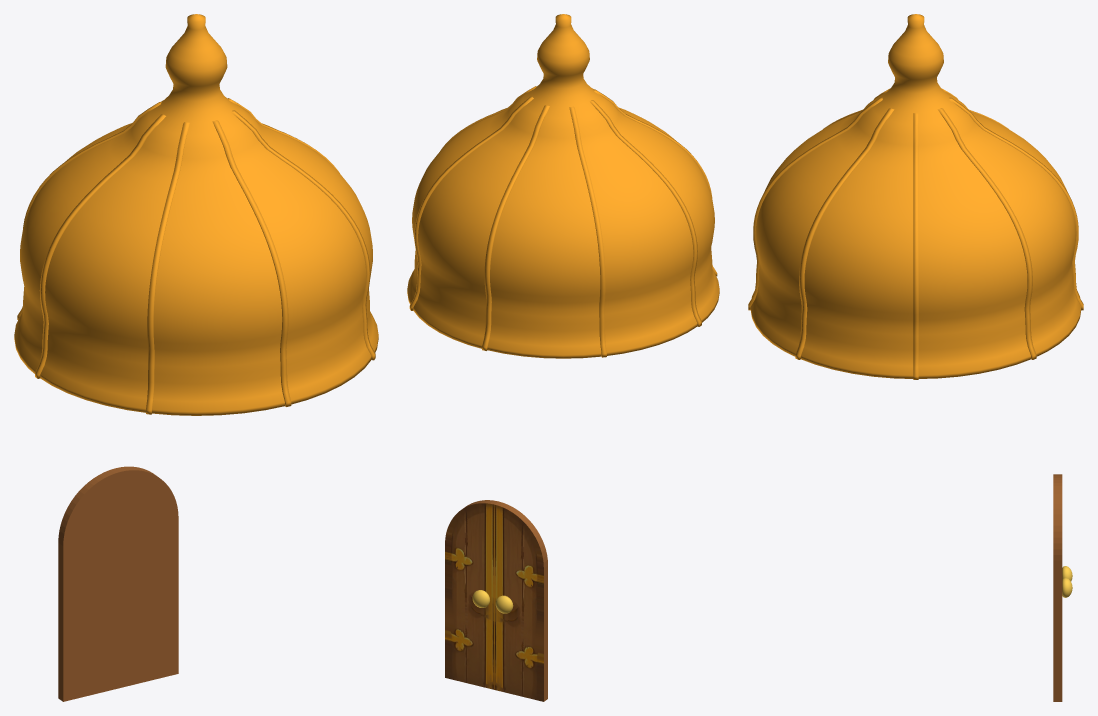
File: HaloDomeHouse_04_deco.glb
The picture shows the model from 3 angles, left to right: view 1: azimuth 30°, elevation 25°; view 2: azimuth 150°, elevation 25°; view 3: azimuth 270°, elevation 25°; orthographic projection. The views are drawn at different scales.
Parts seen in each view (by area): view 1: HaloDomeHouse_04_Dome, HaloDomeHouse_04_Leaf0, HaloDomeHouse_04_Leaf1, HaloDomeHouse_04_DomeRibs; view 2: HaloDomeHouse_04_Dome, HaloDomeHouse_04_Leaf0, HaloDomeHouse_04_Leaf1, HaloDomeHouse_04_DomeRibs; view 3: HaloDomeHouse_04_Dome, HaloDomeHouse_04_DomeRibs, HaloDomeHouse_04_Leaf1.
Part boxes in pixels (<box>): HaloDomeHouse_04_Dome: <box>14,14,378,415</box>; HaloDomeHouse_04_Leaf0: <box>58,468,120,701</box>; HaloDomeHouse_04_Leaf1: <box>116,466,178,687</box>; HaloDomeHouse_04_DomeRibs: <box>17,98,375,414</box>; HaloDomeHouse_04_Dome: <box>407,14,719,358</box>; HaloDomeHouse_04_Leaf0: <box>494,501,547,701</box>; HaloDomeHouse_04_Leaf1: <box>445,500,498,689</box>; HaloDomeHouse_04_DomeRibs: <box>409,86,717,357</box>; HaloDomeHouse_04_Dome: <box>750,14,1081,378</box>; HaloDomeHouse_04_DomeRibs: <box>748,88,1083,379</box>; HaloDomeHouse_04_Leaf1: <box>1053,480,1062,701</box>.
Size of the model in its own units: 11.93 by 25.98 by 11.93.
3 materials, 1 textured.
